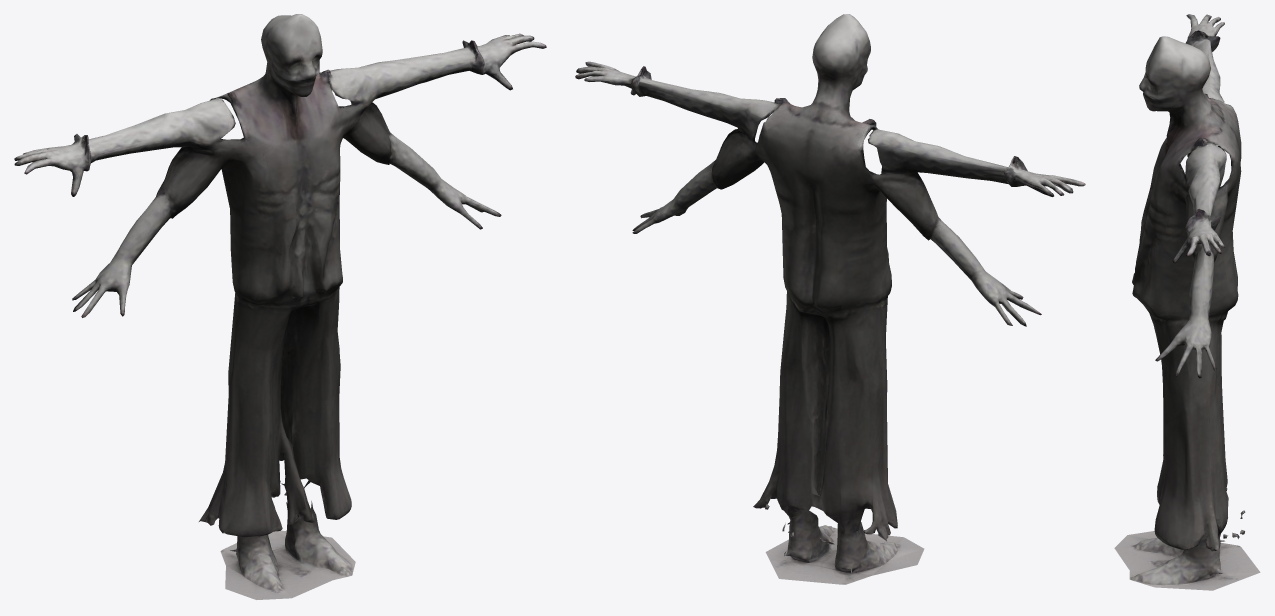
The model's file is zombie_walker.glb.
3 views of the same model, side by side, from view 1: azimuth 30°, elevation 25°; view 2: azimuth 150°, elevation 25°; view 3: azimuth 270°, elevation 25° (orthographic). The views are drawn at different scales.
Visible parts, largest first — view 1: zombie_walker; view 2: zombie_walker; view 3: zombie_walker.
Part boxes in pixels (x1,y1,x2,y2): zombie_walker: (14,14,546,599); zombie_walker: (575,14,1085,584); zombie_walker: (1114,14,1260,590).
Bounding box in the file's own units: 0.9438 × 0.9999 × 0.2423.
1 material, 1 textured.
